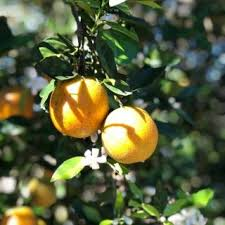orange: (49, 69, 108, 139), (99, 100, 159, 164)
